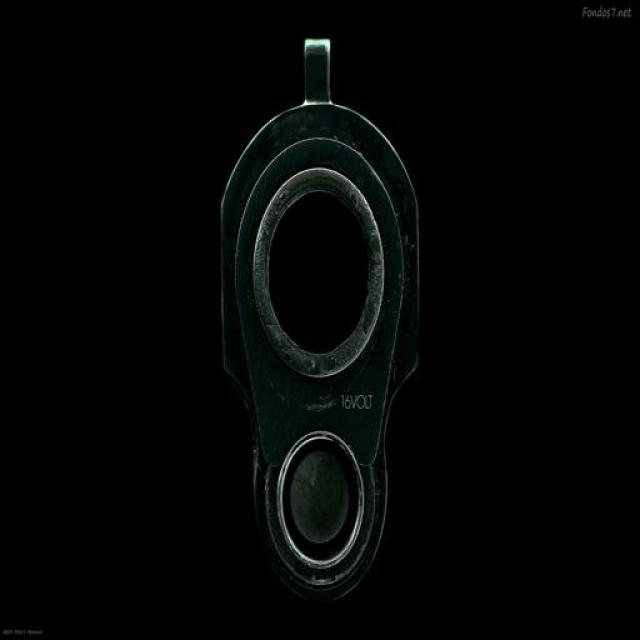pistol: (213, 26, 419, 607)
